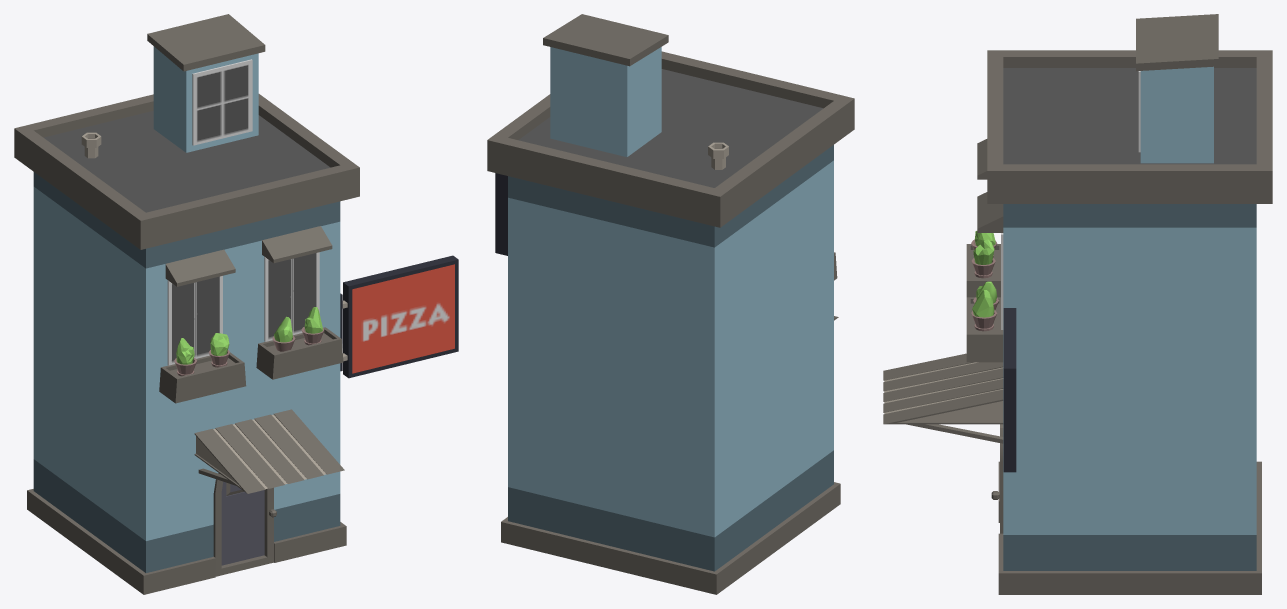
Rendered from miniPizza_color03.fbx.
3 renders of one model, left to right at view 1: azimuth 30°, elevation 25°; view 2: azimuth 150°, elevation 25°; view 3: azimuth 270°, elevation 25°, orthographic. The views are drawn at different scales.
Parts seen in each view (by area): view 1: miniPizza_color03; view 2: miniPizza_color03; view 3: miniPizza_color03.
Boxes of the visible parts, x1,y1,x2,y2 form: miniPizza_color03: [14, 14, 458, 594]; miniPizza_color03: [487, 14, 854, 594]; miniPizza_color03: [883, 14, 1272, 594].
Bounding box in the file's own units: 740 × 1012 × 680.
